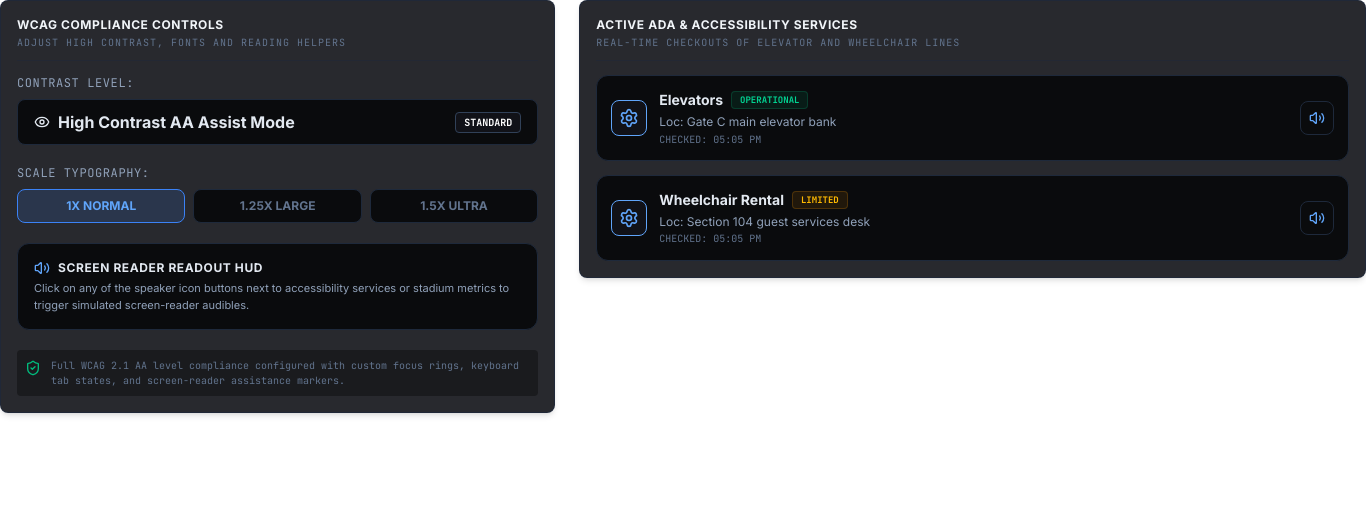
Accessibility Settings & Services Module Tests › simulates screen reader audio readout successfully
Expected: the text "SYNTHESIZING SCREEN READER FEEDBACK" is not shown
Click the button named "Listen to elevators details" at (1317, 118), box [1300,101,1334,135]
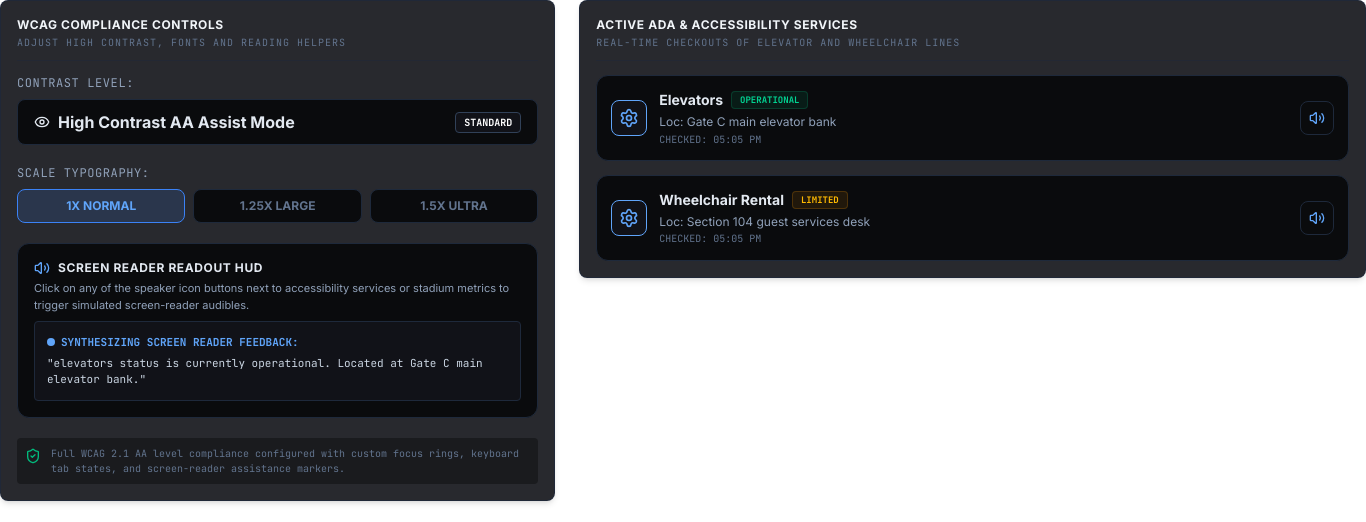
Expected: the text "SYNTHESIZING SCREEN READER FEEDBACK:" is shown, [47,335,299,349]
Expected: the text "\"elevators status is currently operational. Located at Gate C main elevator bank.\"" is shown, [34,321,521,400]
